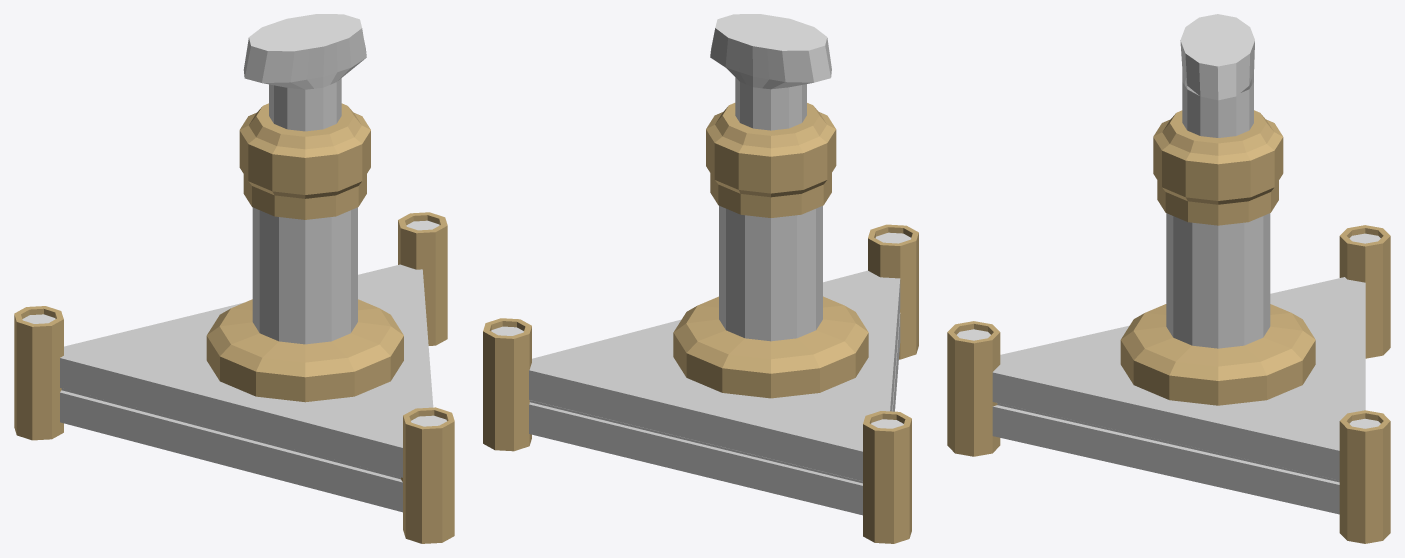
File: francotiradorinferior.fbx
3 renders of one model, left to right at view 1: azimuth 30°, elevation 25°; view 2: azimuth 150°, elevation 25°; view 3: azimuth 270°, elevation 25°, orthographic.
Parts seen in each view (by area): view 1: Cube.014; view 2: Cube.014; view 3: Cube.014.
Part boxes in pixels (x1,y1,x2,y2): Cube.014: (14, 14, 454, 543); Cube.014: (483, 14, 918, 543); Cube.014: (947, 14, 1390, 543).
Bounding box in the file's own units: 201 × 184 × 182.
